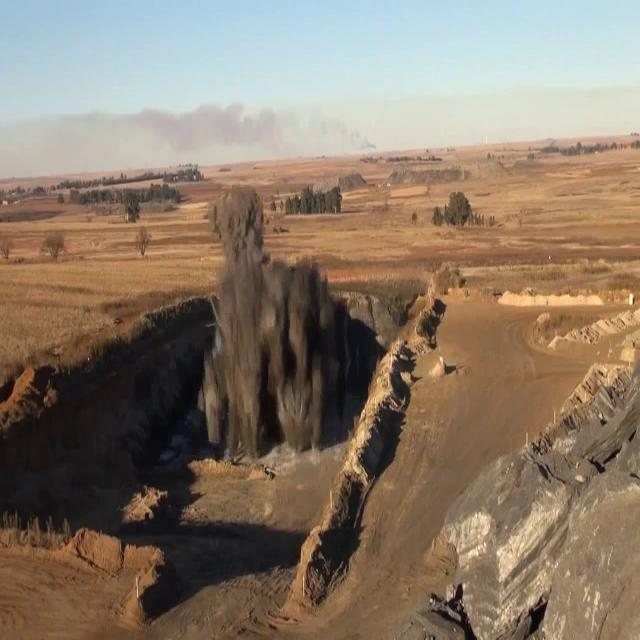explosion: (162, 156, 358, 534)
